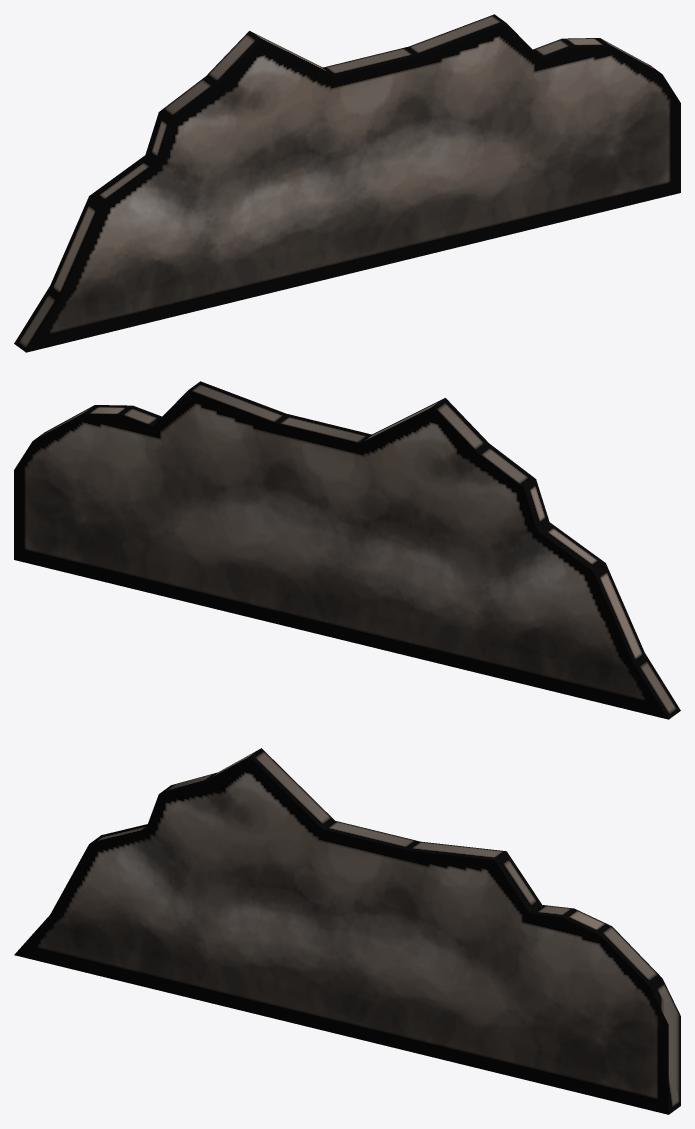
Rendered from Stone.FBX.
3 renders of one model, top to bottom at view 1: azimuth 30°, elevation 25°; view 2: azimuth 150°, elevation 25°; view 3: azimuth 330°, elevation 25°, orthographic.
Parts seen in each view (by area): view 1: Box001; view 2: Box001; view 3: Box001.
Boxes of the visible parts, left/top/right/bottom form: Box001: left=14, top=14, right=680, bottom=352; Box001: left=14, top=381, right=680, bottom=719; Box001: left=14, top=748, right=680, bottom=1114.
Size of the model in its own units: 61.35 by 22.88 by 1.98.
1 material, 1 textured.
